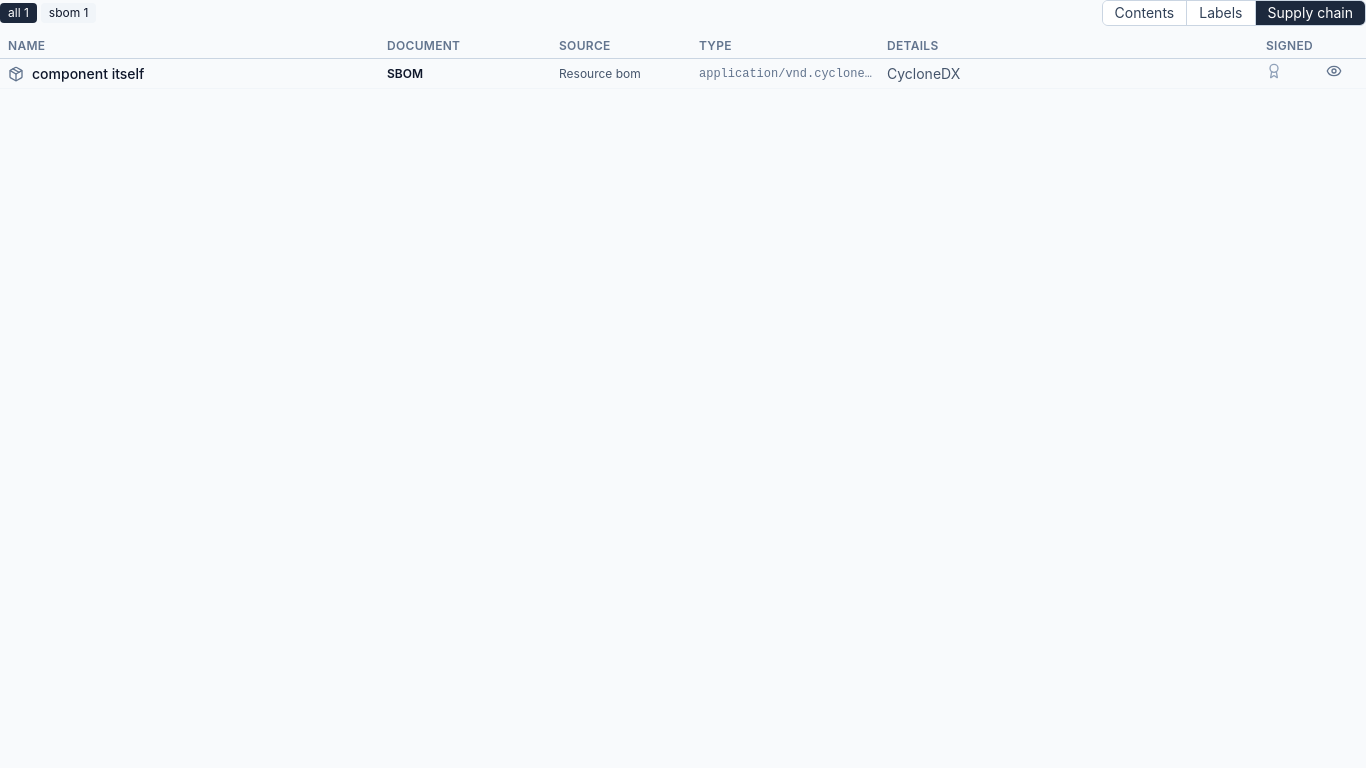
an embedded SBOM is a document of the subject it is listed with, opened as resource
Check: the element titled "covered by the component signature (not verified)" is shown, box left=1266, top=63, right=1282, bottom=79
Click the button named "View SBOM" at [1334, 71], box left=1326, top=63, right=1342, bottom=79
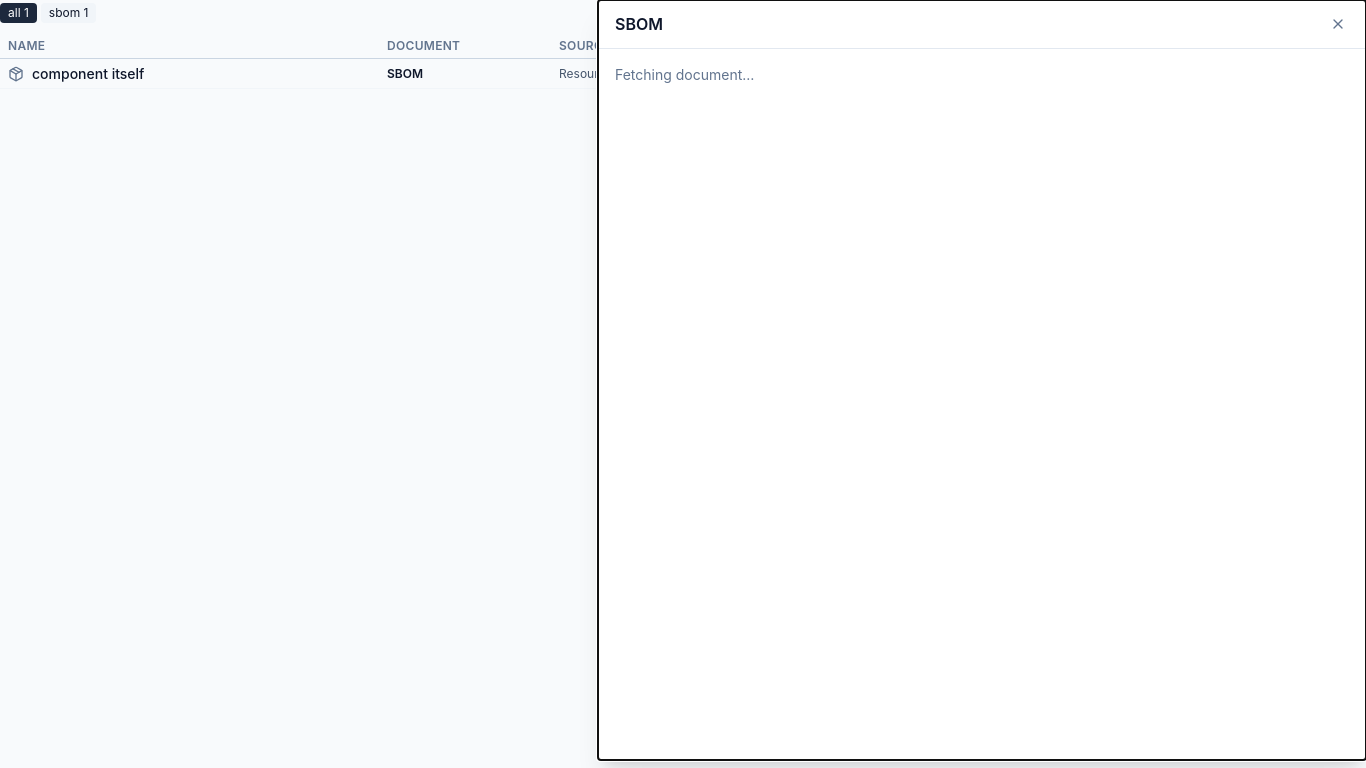
Check: the dialog "SBOM" is shown, box left=598, top=0, right=1365, bottom=760
